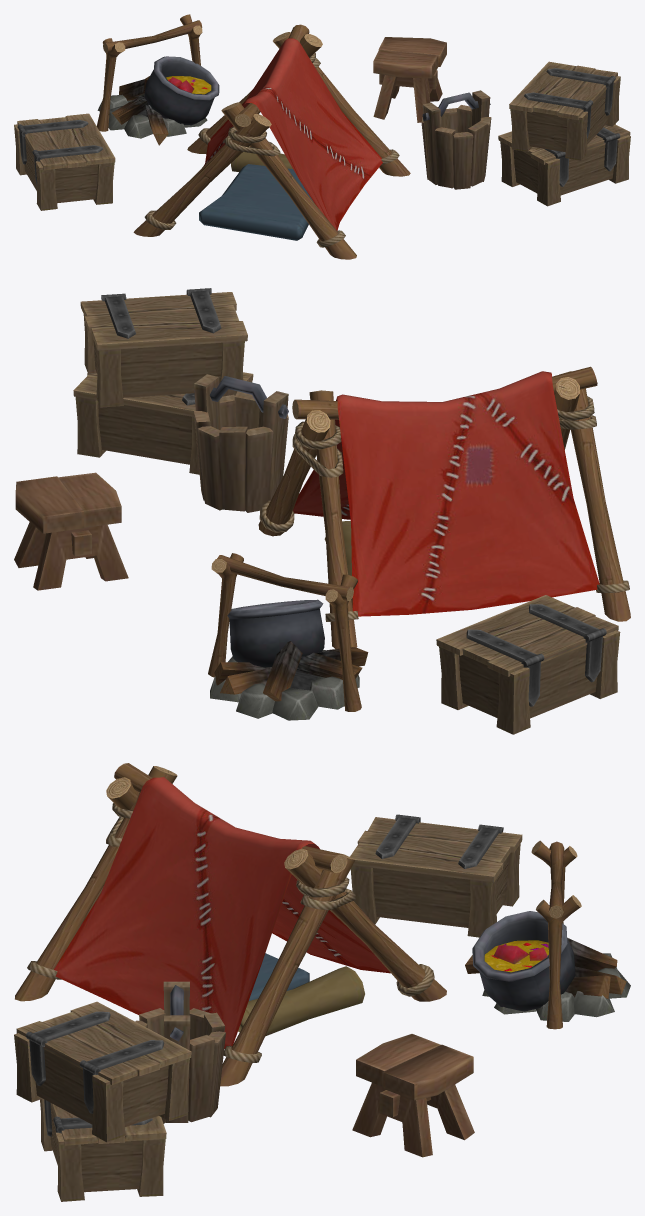
Rendered from acampamento.glb.
3 renders of one model, top to bottom at view 1: azimuth 30°, elevation 25°; view 2: azimuth 150°, elevation 25°; view 3: azimuth 270°, elevation 25°, orthographic. The views are drawn at different scales.
Visible parts, largest first — view 1: Camp2_tent, Bucket, Camp2_Fierplace1, Chest1B.003, Bench2; view 2: Camp2_tent, Bucket, Camp2_Fierplace1, Chest1B.003, Bench2; view 3: Camp2_tent, Bucket, Chest1B.003, Camp2_Fierplace1, Bench2.
Boxes of the visible parts, <box> form: Camp2_tent: <box>133,24,410,259</box>; Bucket: <box>421,61,630,206</box>; Camp2_Fierplace1: <box>97,14,219,145</box>; Chest1B.003: <box>14,113,115,210</box>; Bench2: <box>373,37,446,122</box>; Camp2_tent: <box>258,366,630,648</box>; Bucket: <box>73,288,288,512</box>; Camp2_Fierplace1: <box>208,553,368,720</box>; Chest1B.003: <box>436,595,620,734</box>; Bench2: <box>14,472,128,590</box>; Camp2_tent: <box>15,763,446,1086</box>; Bucket: <box>14,981,225,1201</box>; Chest1B.003: <box>350,814,522,937</box>; Camp2_Fierplace1: <box>465,840,630,1029</box>; Bench2: <box>352,1034,474,1157</box>.
Size of the model in its own units: 3.86 by 1.06 by 3.07.
5 materials, 5 textured.
